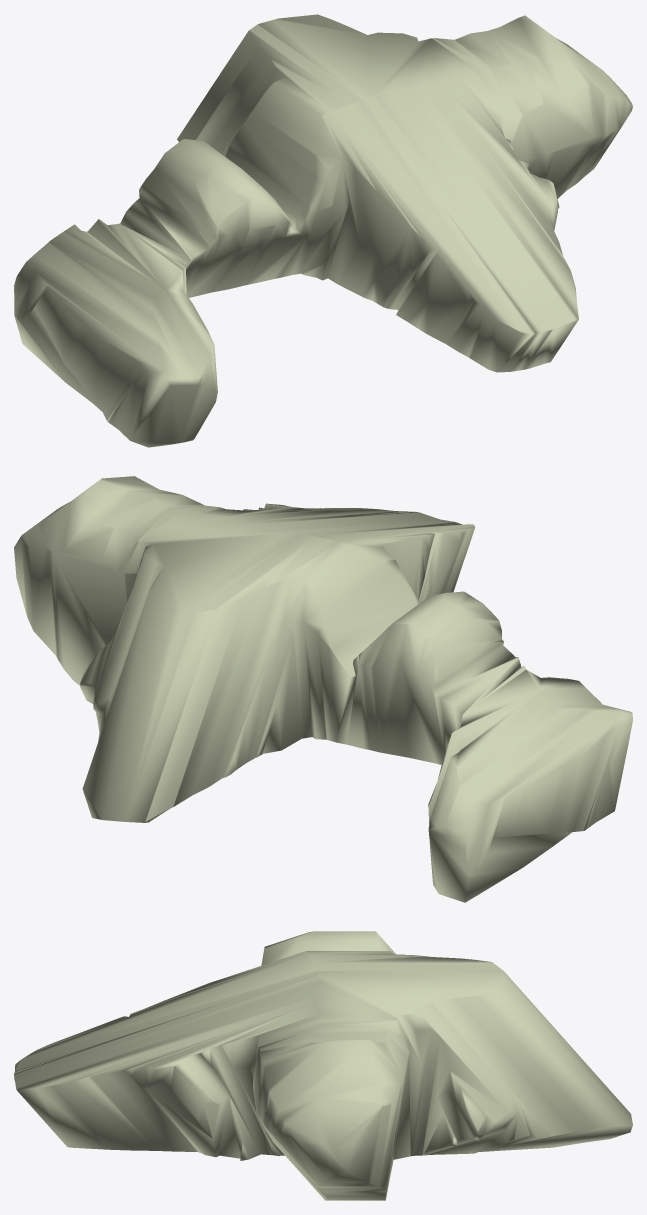
File: bomber_2.obj
3 renders of one model, top to bottom at view 1: azimuth 30°, elevation 25°; view 2: azimuth 150°, elevation 25°; view 3: azimuth 270°, elevation 25°, orthographic. The views are drawn at different scales.
Parts seen in each view (by area): view 1: Cube1_s_0.svg_s_8.svg_s_9.svg_s_21.svg_s_29.svg_s_32.svg_s_36.sv; view 2: Cube1_s_0.svg_s_8.svg_s_9.svg_s_21.svg_s_29.svg_s_32.svg_s_36.sv; view 3: Cube1_s_0.svg_s_8.svg_s_9.svg_s_21.svg_s_29.svg_s_32.svg_s_36.sv.
Part boxes in pixels (left/top/right/bottom): Cube1_s_0.svg_s_8.svg_s_9.svg_s_21.svg_s_29.svg_s_32.svg_s_36.sv: left=14, top=14, right=632, bottom=447; Cube1_s_0.svg_s_8.svg_s_9.svg_s_21.svg_s_29.svg_s_32.svg_s_36.sv: left=14, top=476, right=632, bottom=902; Cube1_s_0.svg_s_8.svg_s_9.svg_s_21.svg_s_29.svg_s_32.svg_s_36.sv: left=14, top=931, right=632, bottom=1200.
Bounding box in the file's own units: 1.45 × 0.6614 × 1.58.
